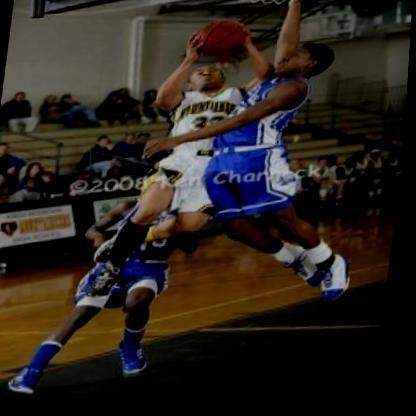basketball: (191, 13, 260, 71)
